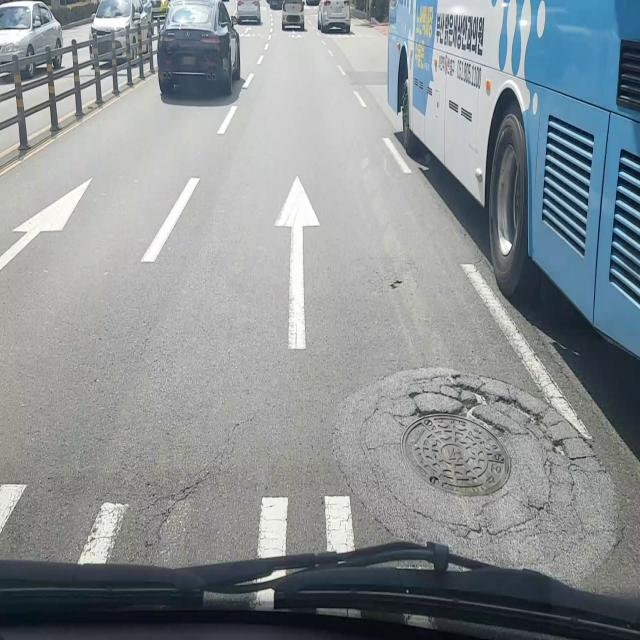Pothole: (398, 384, 572, 500)
